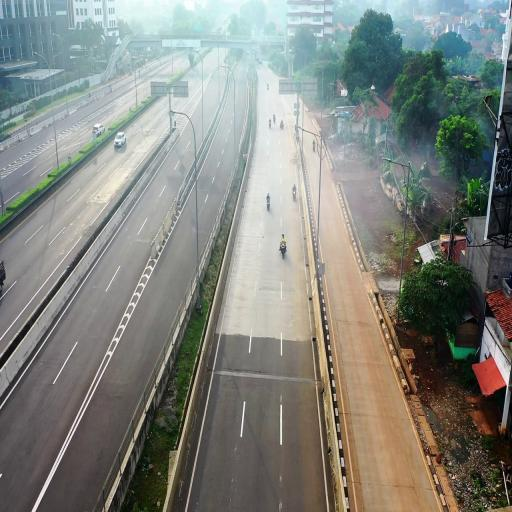vehicle: (115, 131, 127, 151)
